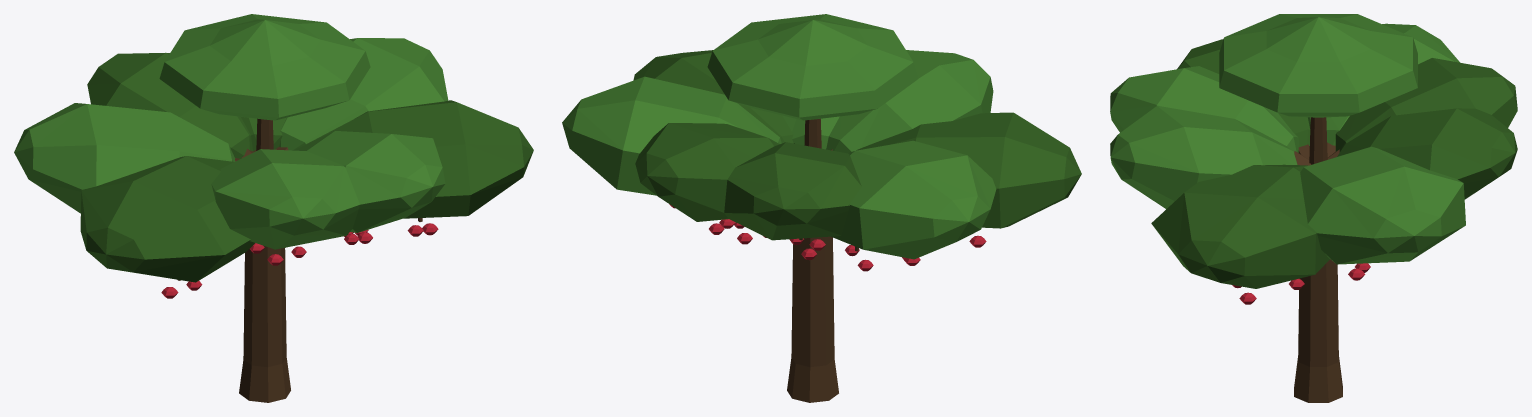
File: cherry_tree.gltf
3 renders of one model, left to right at view 1: azimuth 30°, elevation 25°; view 2: azimuth 150°, elevation 25°; view 3: azimuth 270°, elevation 25°, orthographic.
Visible parts, largest first — view 1: cherry_tree; view 2: cherry_tree; view 3: cherry_tree.
Boxes of the visible parts, x1=… form: cherry_tree: x1=14, y1=14, x2=533, y2=402; cherry_tree: x1=562, y1=14, x2=1081, y2=402; cherry_tree: x1=1110, y1=14, x2=1517, y2=402.
Bounding box in the file's own units: 3.73 × 3.08 × 3.03.
